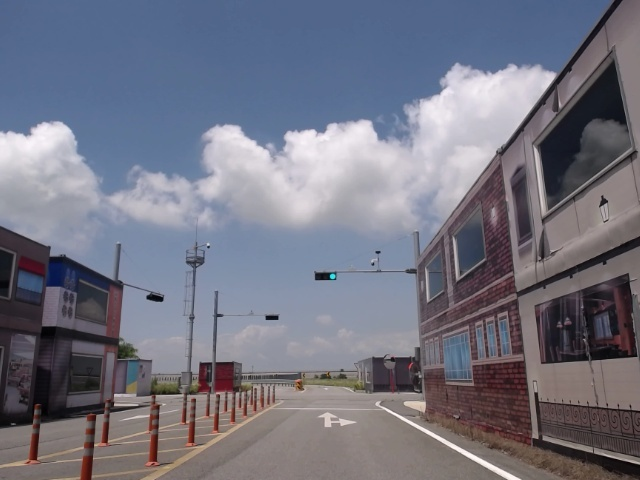green_3: (315, 272, 337, 281)
